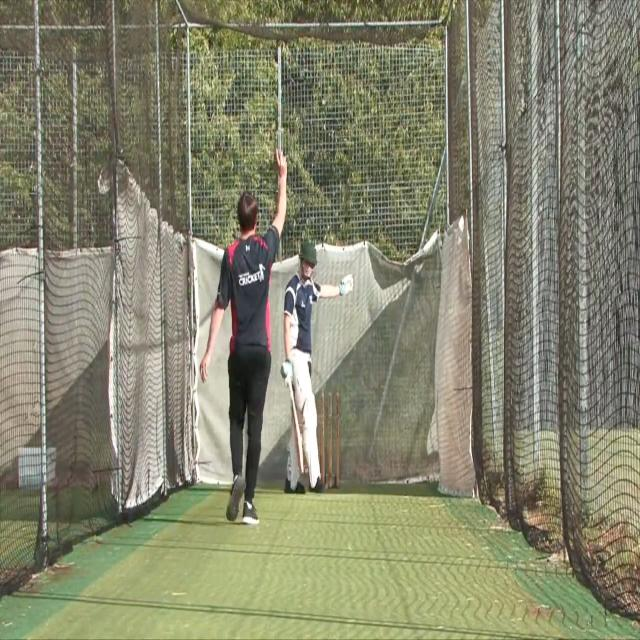batsman: (279, 240, 355, 497)
